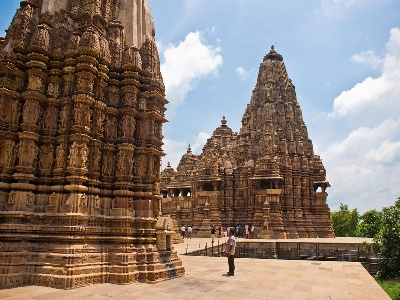amalaka: (260, 46, 291, 68)
gopuram: (227, 65, 329, 167)
mandapa: (166, 179, 202, 211), (244, 172, 290, 197), (192, 175, 232, 201), (312, 177, 336, 200)
